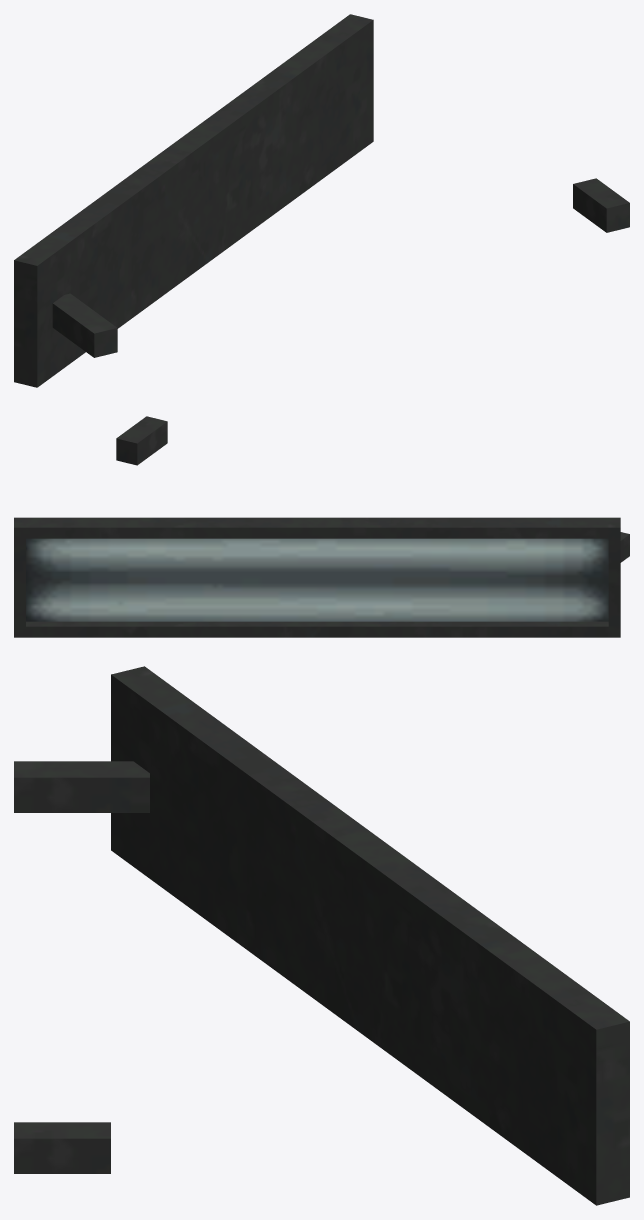
File: light_BROKEN.vmf.obj
The picture shows the model from 3 angles, top to bottom: view 1: azimuth 30°, elevation 25°; view 2: azimuth 150°, elevation 25°; view 3: azimuth 270°, elevation 25°; orthographic projection. The views are drawn at different scales.
Visible parts, largest first — view 1: 5, 4, 7, 8, 6; view 2: 5, 4, 3, 8, 6, 2; view 3: 5, 4, 7, 8, 2.
Part boxes in pixels (left/top/right/bottom): 5: left=25, top=17, right=373, bottom=387; 4: left=14, top=14, right=361, bottom=275; 7: left=52, top=293, right=117, bottom=357; 8: left=573, top=178, right=629, bottom=232; 6: left=14, top=272, right=25, bottom=372; 5: left=14, top=517, right=620, bottom=621; 4: left=14, top=522, right=620, bottom=538; 3: left=14, top=621, right=620, bottom=637; 8: left=116, top=416, right=167, bottom=465; 6: left=608, top=538, right=620, bottom=626; 2: left=14, top=538, right=25, bottom=626; 5: left=111, top=670, right=613, bottom=1205; 4: left=128, top=666, right=629, bottom=1042; 7: left=14, top=761, right=149, bottom=812; 8: left=14, top=1122, right=110, bottom=1173; 2: left=613, top=1039, right=629, bottom=1183.
Bounding box in the file's own units: 49 × 10 × 31.73.
Materials: 2 (2 with a texture image).
